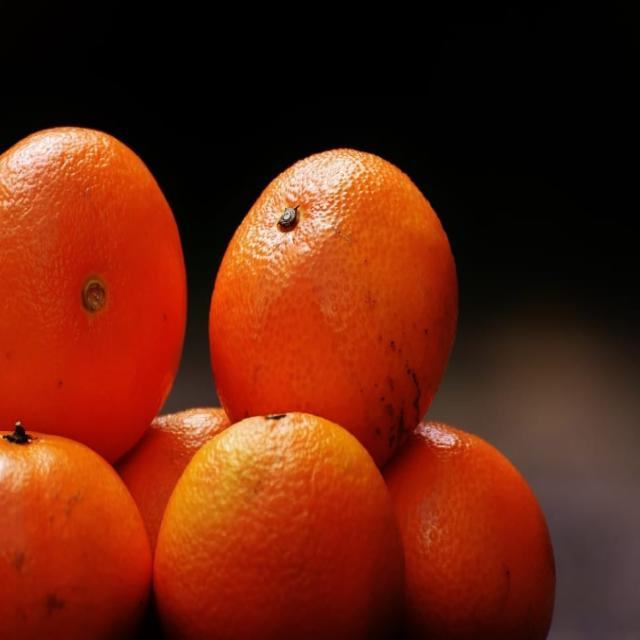orange: (206, 146, 449, 438), (5, 130, 194, 444), (170, 418, 388, 639)
